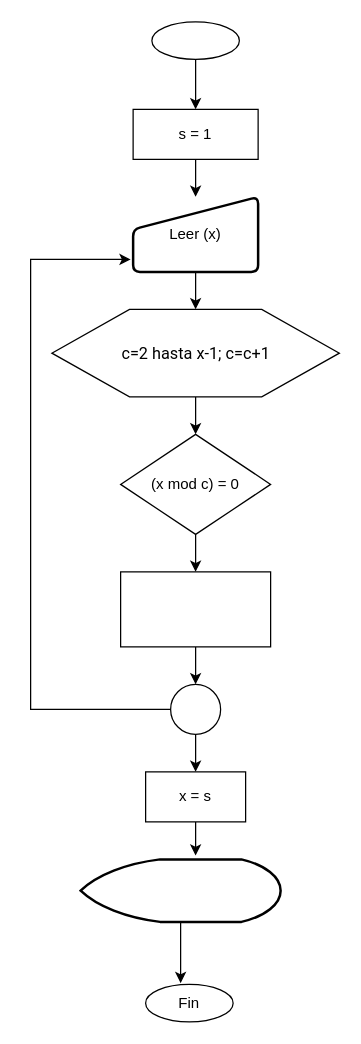
Some shapes in this 361 by 1044 pixel diagram are drawn without their labels. The shapes that lost their labels are listed below. From the top down, each one's box as (x1, y1, x2, y2) in pixels, then its label:
(151, 21, 239, 59): Inicio
(119, 571, 271, 647): s = s + c
(79, 858, 281, 922): x + "es un nro perfecto"
